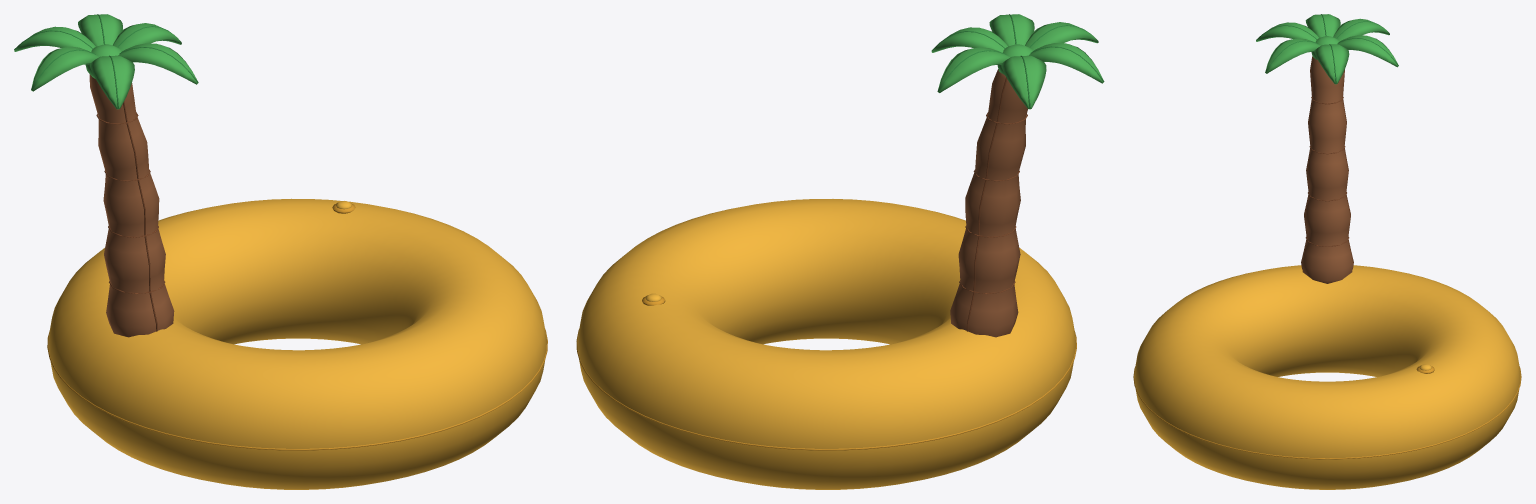
File: palmring.glb
The picture shows the model from 3 angles, left to right: view 1: azimuth 30°, elevation 25°; view 2: azimuth 150°, elevation 25°; view 3: azimuth 270°, elevation 25°; orthographic projection. The views are drawn at different scales.
Parts seen in each view (by area): view 1: ring, trunk, frond 5, frond 6, frond 4, outer seam, frond 3, frond 2, frond 1; view 2: ring, trunk, frond 3, frond 2, frond 4, outer seam, frond 1, frond 5, frond 6, neck seam 1; view 3: ring, trunk, frond 1, frond 6, frond 2, outer seam, frond 5, frond 3, frond 4.
Boxes of the visible parts, x1,y1,x2,y2 form: ring: (48,198,546,489); trunk: (89,74,174,337); frond 5: (89,55,134,109); frond 6: (118,43,197,84); frond 4: (31,46,98,91); outer seam: (47,329,547,450); frond 3: (14,26,95,51); frond 2: (78,14,122,46); frond 1: (113,23,181,51); ring: (577,199,1075,489); trunk: (950,69,1027,337); frond 3: (1001,55,1046,109); frond 2: (937,47,1009,92); frond 4: (1029,43,1103,83); outer seam: (576,329,1076,450); frond 1: (931,27,1007,52); frond 5: (1025,22,1098,50); frond 6: (989,14,1034,46); neck seam 1: (966,77,1007,331); ring: (1134,265,1520,489); trunk: (1301,57,1353,283); frond 1: (1314,44,1349,84); frond 6: (1265,38,1320,73); frond 2: (1337,35,1398,67); outer seam: (1133,367,1521,459); frond 5: (1256,22,1318,42); frond 3: (1333,18,1389,41); frond 4: (1305,14,1340,37).
Size of the model in its own units: 0.8821 by 0.7164 by 0.7824.
